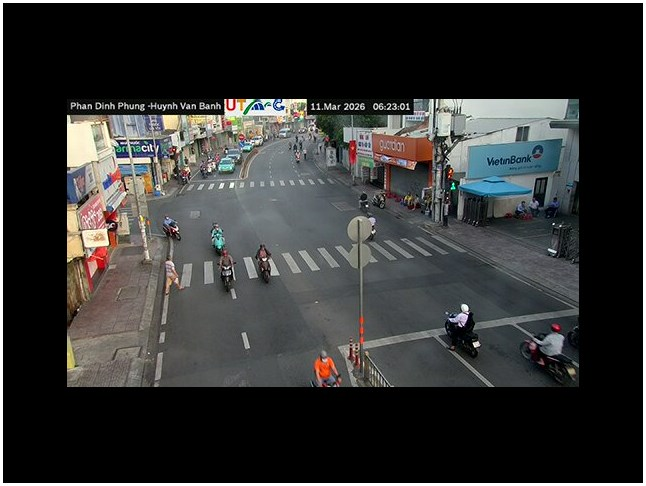motorbike: (520, 339, 578, 385), (443, 313, 480, 359)
